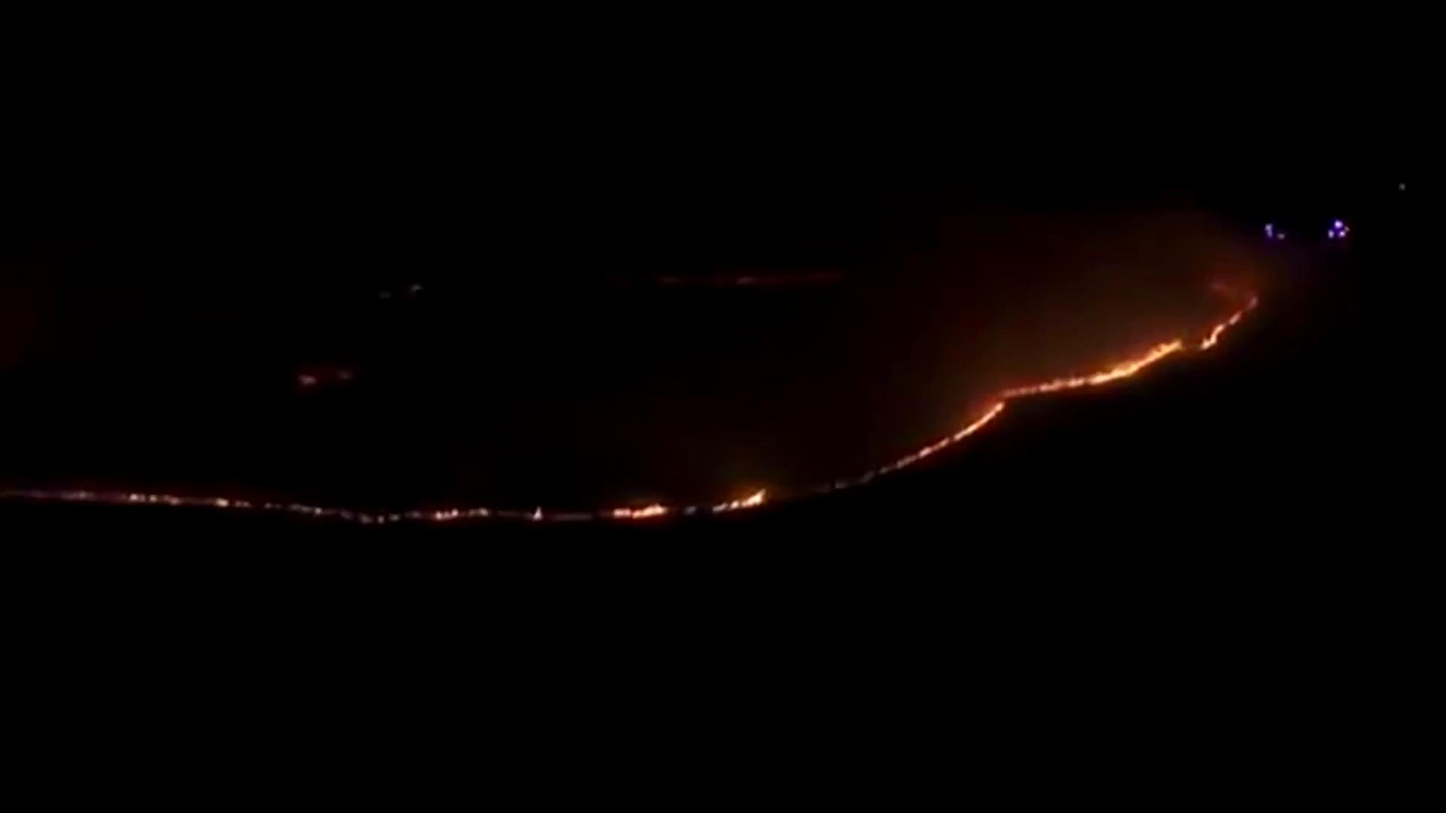fire: (1002, 338, 1179, 397), (911, 401, 1002, 459), (1200, 313, 1245, 349), (714, 485, 767, 510), (615, 498, 670, 519)
